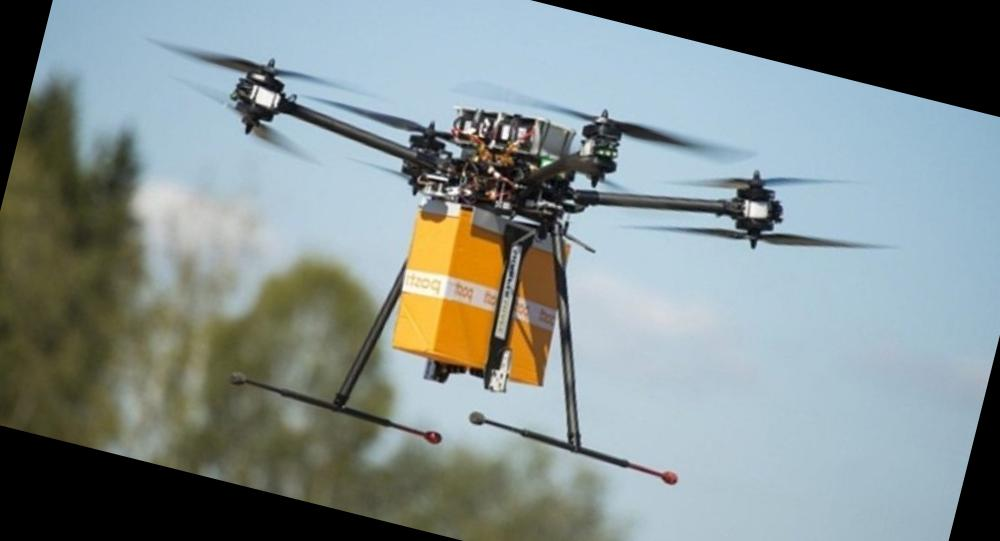drone: (86, 0, 896, 354)
